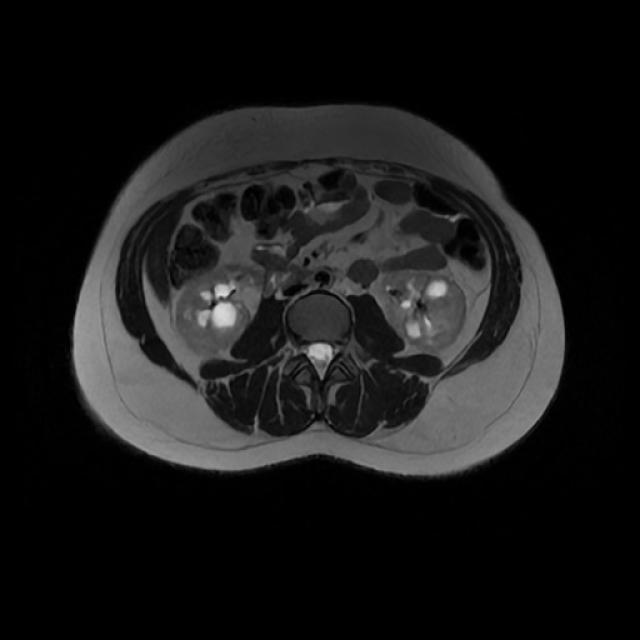sag: (174, 263, 262, 356)
sol: (383, 270, 466, 348)
